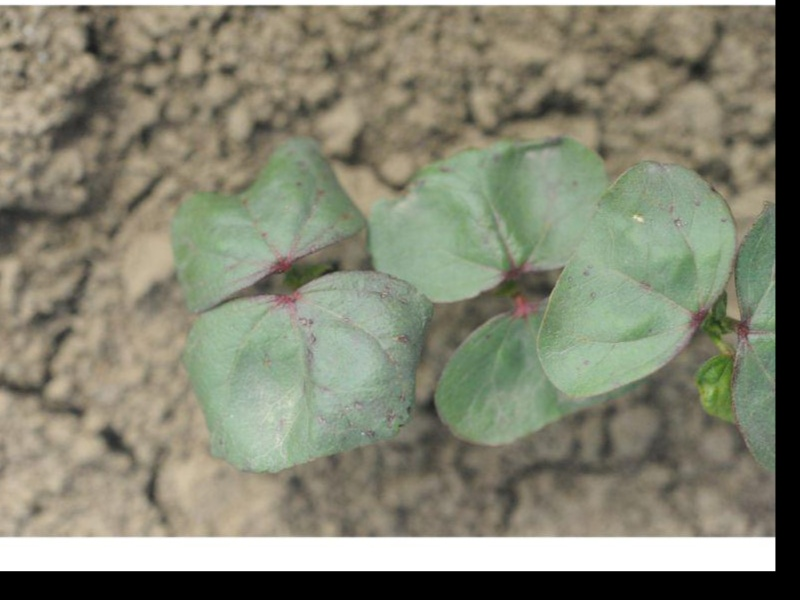cotton: (169, 135, 775, 473)
